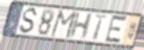8: (37, 8, 55, 37)
E: (103, 13, 129, 46)
H: (68, 12, 95, 41)
M: (49, 10, 78, 40)
S: (18, 7, 39, 36)
T: (92, 14, 109, 41)
